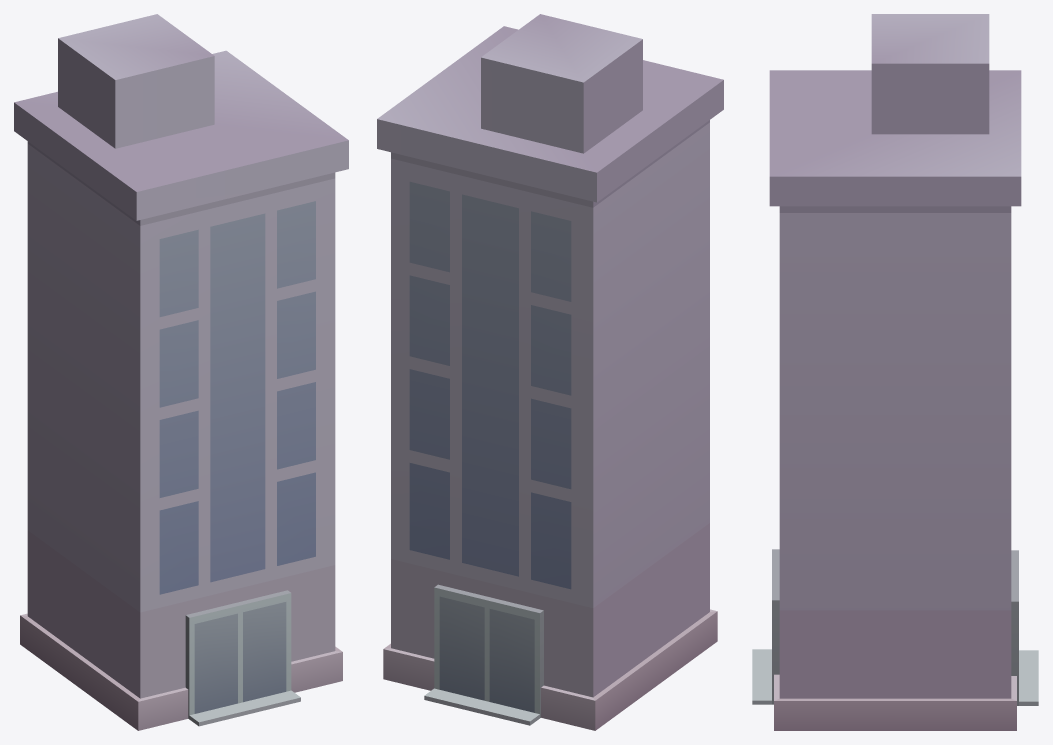
File: build_c.glb
The picture shows the model from 3 angles, left to right: view 1: azimuth 30°, elevation 25°; view 2: azimuth 150°, elevation 25°; view 3: azimuth 270°, elevation 25°; orthographic projection. The views are drawn at different scales.
Parts seen in each view (by area): view 1: build_c; view 2: build_c; view 3: build_c.
Part boxes in pixels (box(x1,y1,x2,y2)): build_c: box(14, 14, 348, 730); build_c: box(377, 14, 723, 730); build_c: box(752, 14, 1038, 730).
Bounding box in the file's own units: 1.09 × 2.99 × 1.24.
